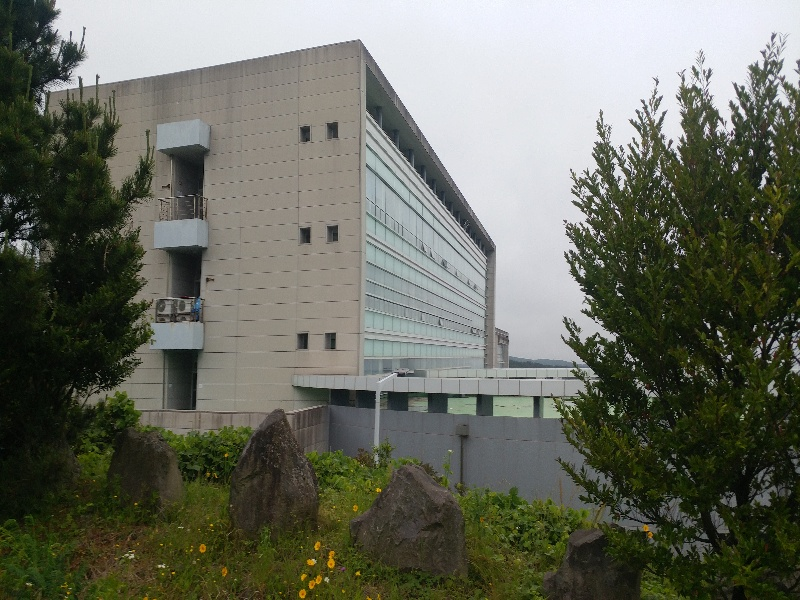College of Marine Science: (70, 78, 490, 410)
